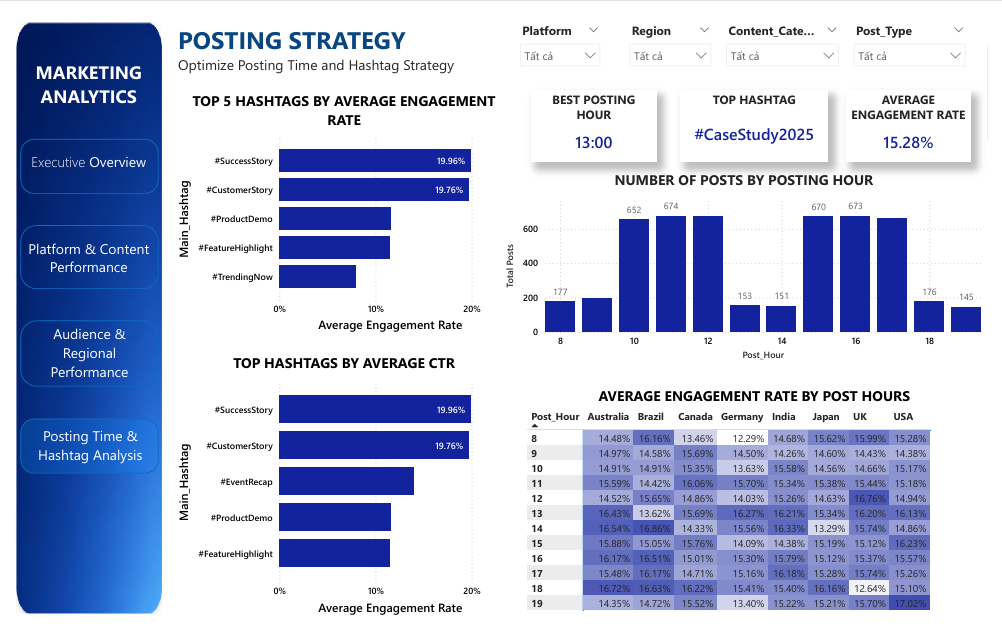

The dashboard page shown, as its layout file describes it:
{"tool":"powerbi","page":{"name":"Posting Time & Hashtag Analysis","canvas":[1300,800],"ordinal":3},"visuals":[{"type":"pivotTable","title":"AVERAGE ENGAGEMENT RATE BY POST HOURS","fields":{"Rows":["Sheet1.Post_Hour"],"Values":["Sheet1.Average Engagement Rate"],"Columns":["Sheet1.Region"]},"box":[681,489.6,614.7,309.2],"z":0},{"type":"barChart","title":"TOP 5 HASHTAGS BY AVERAGE ENGAGEMENT RATE","fields":{"Category":["Sheet1.Main_Hashtag"],"Y":["Sheet1.Average Engagement Rate"]},"box":[215.3,95.7,452.8,327.6],"z":1000},{"type":"barChart","title":"TOP HASHTAGS BY AVERAGE CTR","fields":{"Category":["Sheet1.Main_Hashtag"],"Y":["Sheet1.Average Engagement Rate"]},"box":[215.3,445.4,452.8,353.4],"z":2000},{"type":"columnChart","title":"NUMBER OF POSTS BY POSTING HOUR","fields":{"Category":["Sheet1.Post_Hour"],"Y":["Sheet1.Total Posts"]},"box":[653.4,202.5,642.3,257.7],"z":3000},{"type":"slicer","fields":{"Values":["Sheet1.Platform"]},"box":[665.9,0,127.5,82.8],"z":4000},{"type":"slicer","fields":{"Values":["Sheet1.Region"]},"box":[811.7,0,129.2,82.8],"z":5000},{"type":"slicer","fields":{"Values":["Sheet1.Content_Category"]},"box":[940.9,0,170.6,82.8],"z":6000},{"type":"slicer","fields":{"Values":["Sheet1.Post_Type"]},"box":[1111.5,0,169,82.8],"z":7000},{"type":"card","title":"BEST POSTING HOUR","fields":{"Values":["Sheet1.Best Posting Hour"]},"box":[690.8,96.1,167.3,96.1],"z":8000},{"type":"card","title":"TOP HASHTAG","fields":{"Values":["Sheet1.Top Hashtag"]},"box":[889.5,96.1,197.1,96.1],"z":9000},{"type":"card","title":"AVERAGE ENGAGEMENT RATE","fields":{"Values":["Sheet1.Average Engagement Rate"]},"box":[1111.5,96.1,165.6,96.1],"z":10000},{"type":"textbox","box":[215.4,0,451.9,96.2],"z":11000},{"type":"image","box":[0,0,204.3,798.8],"z":12000},{"type":"textbox","box":[9.6,0,182.7,138.5],"z":13000},{"type":"shape","box":[9.6,159.6,184.6,73.1],"z":14000},{"type":"shape","box":[9.6,275,184.6,84.6],"z":15000},{"type":"shape","box":[9.6,401.9,184.6,88.5],"z":16000},{"type":"shape","box":[9.6,532.7,184.6,73.1],"z":17000},{"type":"textbox","box":[9.6,173.1,182.7,59.6],"z":18000},{"type":"textbox","box":[9.6,288.5,182.7,59.6],"z":19000},{"type":"textbox","box":[11.5,401.9,180.8,88.5],"z":20000},{"type":"textbox","box":[11.5,538.5,182.7,59.6],"z":21000}]}

Visuals, with their boxes in screenshot pixels (x1, y1, x2, y2), scaled from the page's 1300x800 canvas onto the 1002x631 screenshot:
"AVERAGE ENGAGEMENT RATE BY POST HOURS" pivotTable: locate(525, 386, 999, 630)
"TOP 5 HASHTAGS BY AVERAGE ENGAGEMENT RATE" barChart: locate(166, 75, 515, 334)
"TOP HASHTAGS BY AVERAGE CTR" barChart: locate(166, 351, 515, 630)
"NUMBER OF POSTS BY POSTING HOUR" columnChart: locate(504, 160, 999, 363)
slicer - Sheet1.Platform: locate(513, 0, 612, 65)
slicer - Sheet1.Region: locate(626, 0, 725, 65)
slicer - Sheet1.Content_Category: locate(725, 0, 857, 65)
slicer - Sheet1.Post_Type: locate(857, 0, 987, 65)
"BEST POSTING HOUR" card: locate(532, 76, 661, 152)
"TOP HASHTAG" card: locate(686, 76, 838, 152)
"AVERAGE ENGAGEMENT RATE" card: locate(857, 76, 984, 152)
textbox: locate(166, 0, 514, 76)
image: locate(0, 0, 157, 630)
textbox: locate(7, 0, 148, 109)
shape: locate(7, 126, 150, 184)
shape: locate(7, 217, 150, 284)
shape: locate(7, 317, 150, 387)
shape: locate(7, 420, 150, 478)
textbox: locate(7, 137, 148, 184)
textbox: locate(7, 228, 148, 275)
textbox: locate(9, 317, 148, 387)
textbox: locate(9, 425, 150, 472)
